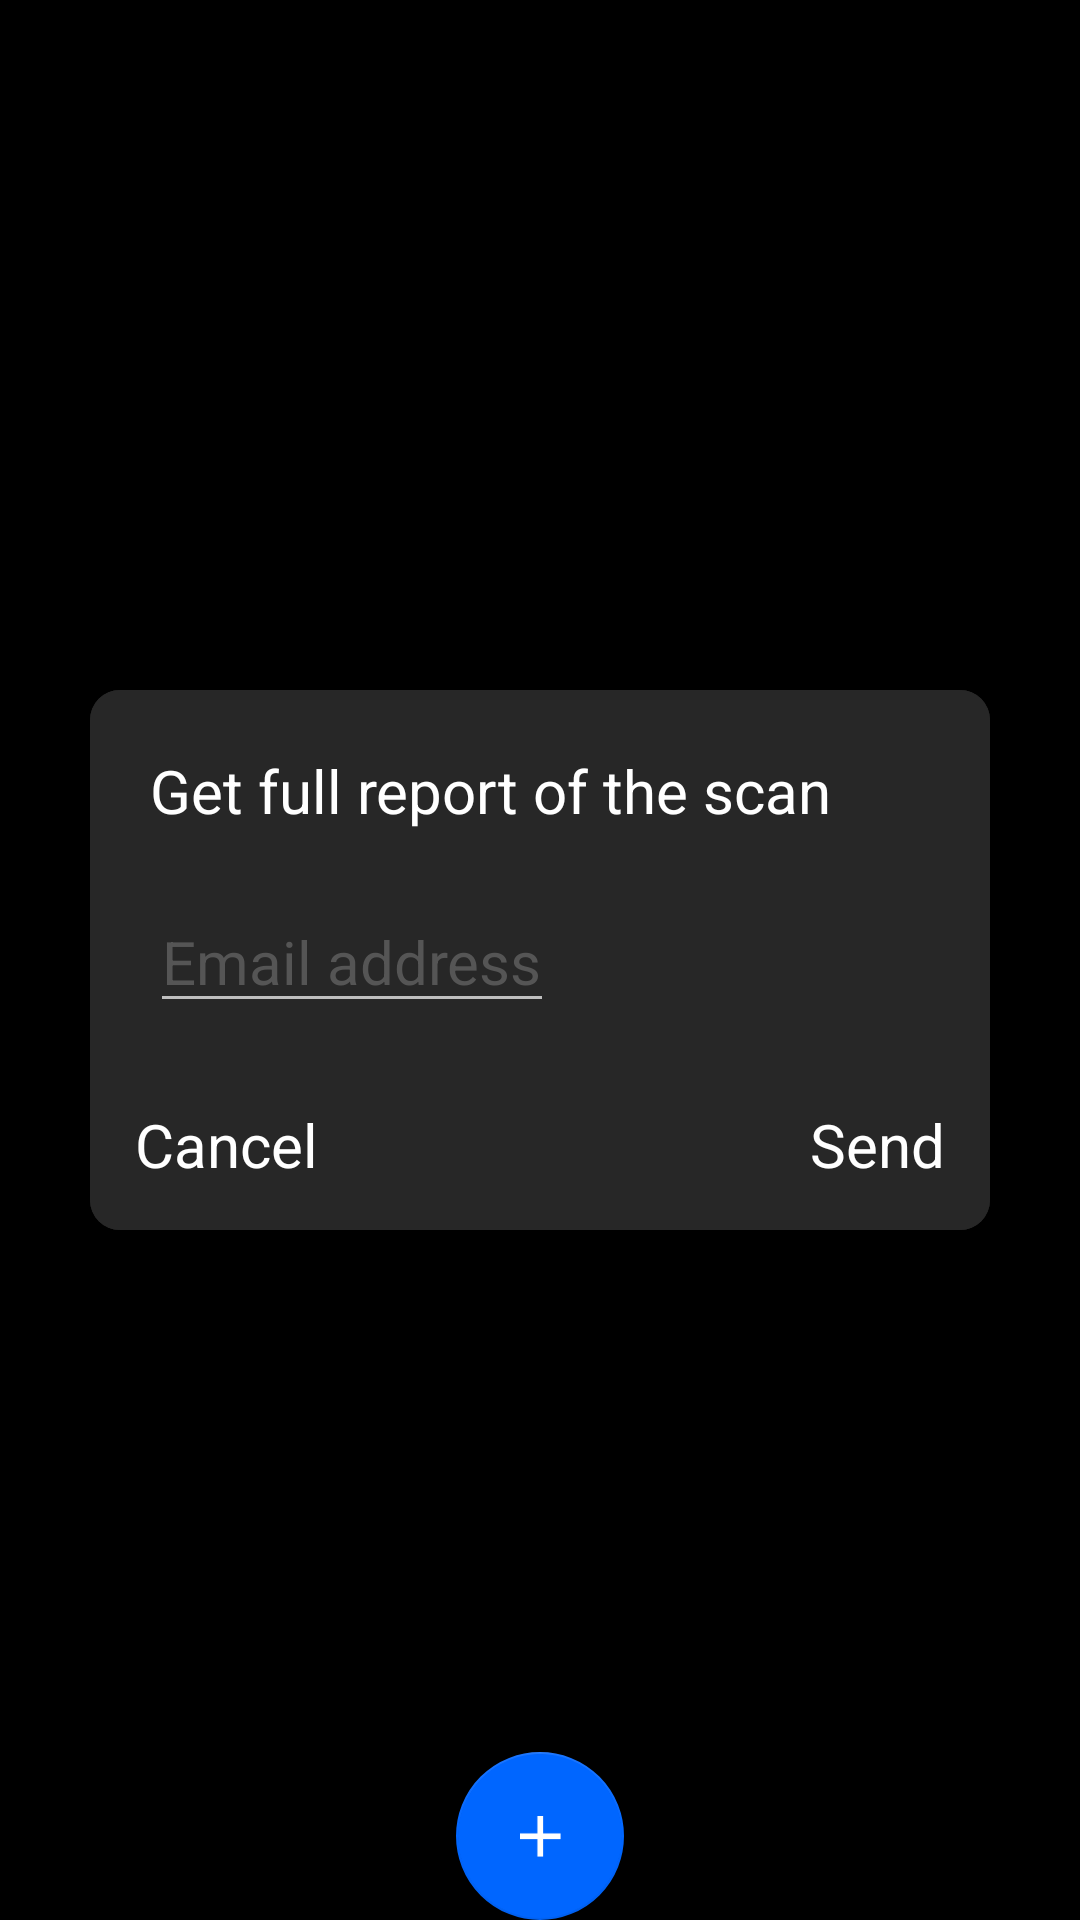

Icons on this 1080w x 1920h Android screen, each with its box as box(x1, y1, x2, y2):
add: box(456, 1752, 624, 1920)
